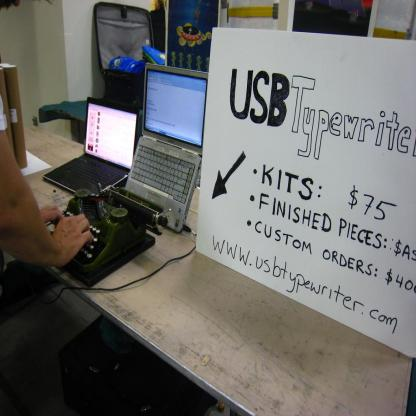board: (117, 62, 211, 232), (44, 95, 138, 196)
